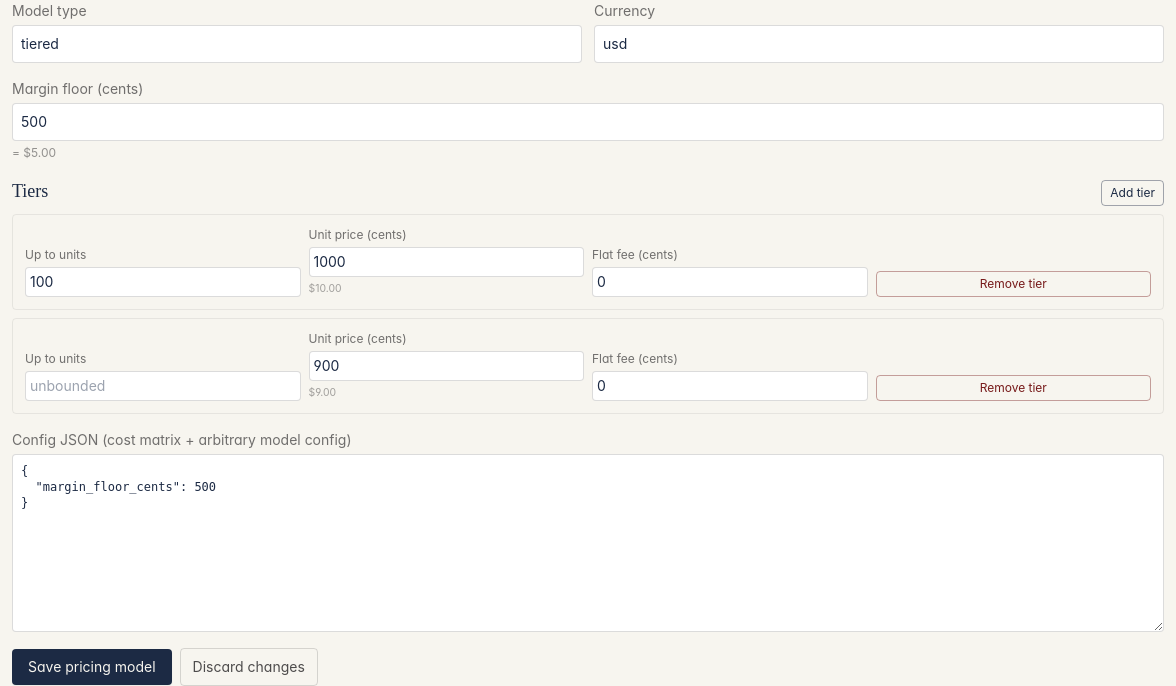
Scenario: PricingModelEditor (HUB-1654) › AC#3 — save success + PUT payload shape › surfaces a server-error banner when the PUT rejects
The image size is (1176, 686).
(page scrolled)
Expected: the element with test id "pricing-editor-tier-row-0" is shown, [12, 214, 1164, 310]
Click the button with test id "pricing-editor-save" at (92, 667), box [12, 649, 172, 685]
(page scrolled)
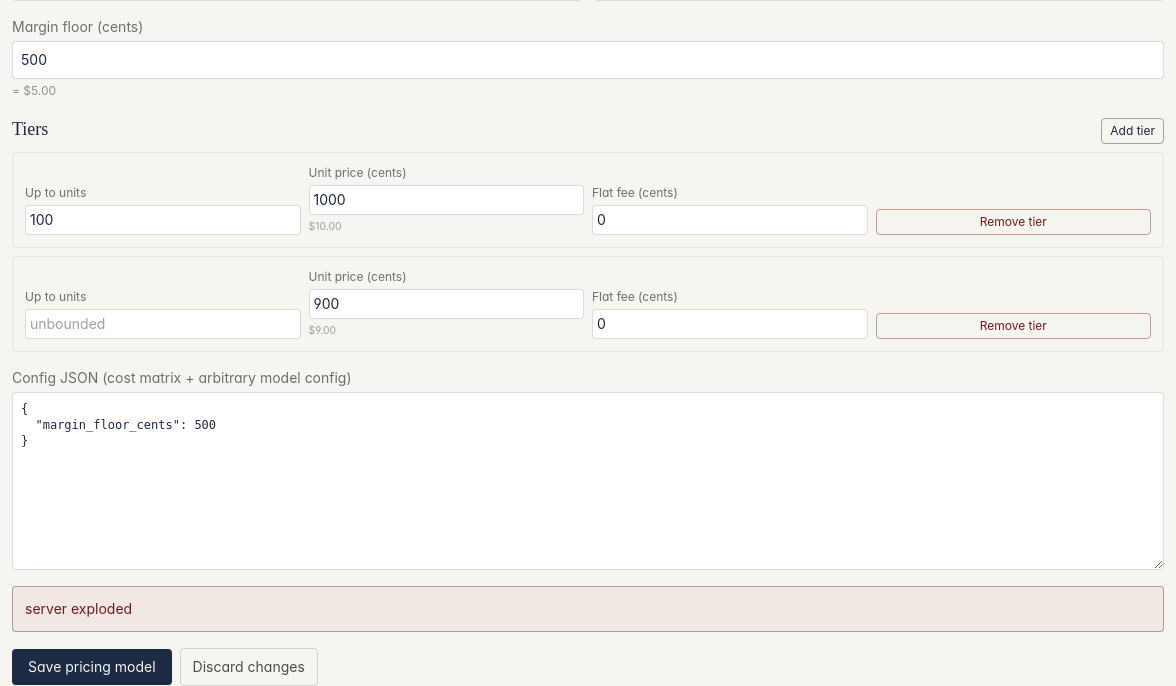
Expected: the message with test id "pricing-editor-save-error" reads "server exploded", [25, 600, 132, 617]
